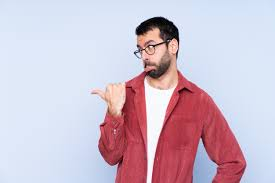white_male: (136, 29, 171, 80)
